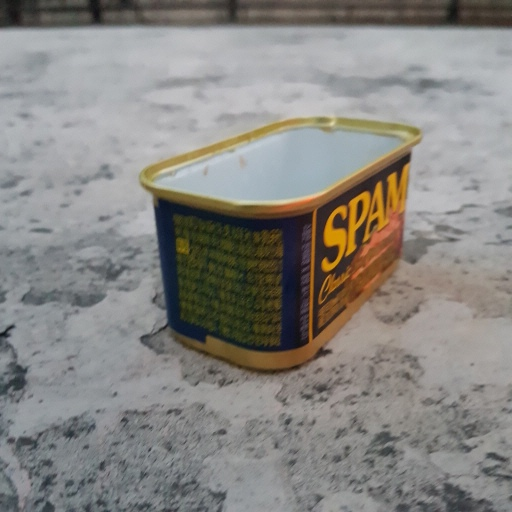Metal_2: (141, 115, 425, 372)
